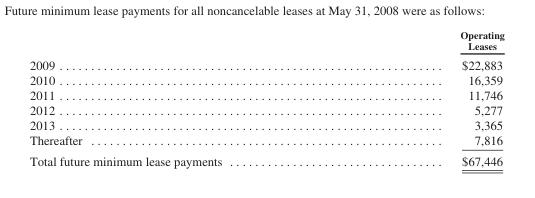table: (28, 29, 503, 167)
table column: (28, 29, 340, 167), (340, 29, 503, 167)
table column header: (28, 29, 503, 54)
table row: (28, 29, 503, 54), (28, 54, 503, 72), (28, 132, 503, 150), (28, 150, 503, 167), (28, 72, 503, 87), (28, 87, 503, 102), (28, 102, 503, 117), (28, 117, 503, 132)
